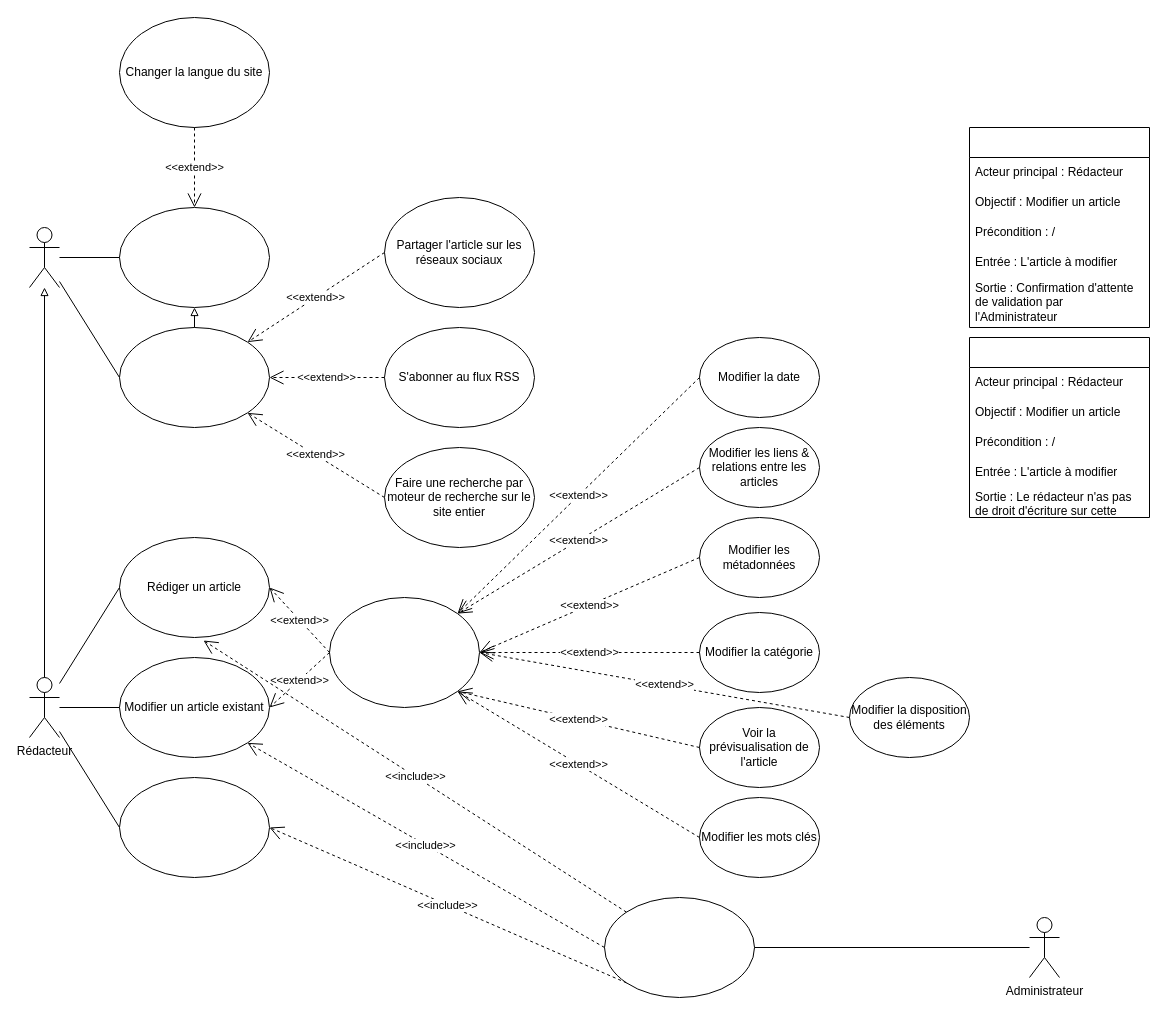
Image size: 1167x1016. Some labels were removed from this diagram. Each missing label, with the box of its shape:
Choisir les paramêtres de l'article: (328, 596, 480, 708)
Faire la validation: (604, 896, 754, 998)
Lire un article: (118, 326, 270, 428)
Naviguer sur le site: (118, 206, 270, 308)
Scénario alternatif: (968, 336, 1150, 518)
Scénario Nominal: (968, 126, 1150, 328)
Supprimer un article: (118, 776, 270, 878)
Visiteur: (28, 226, 60, 288)
